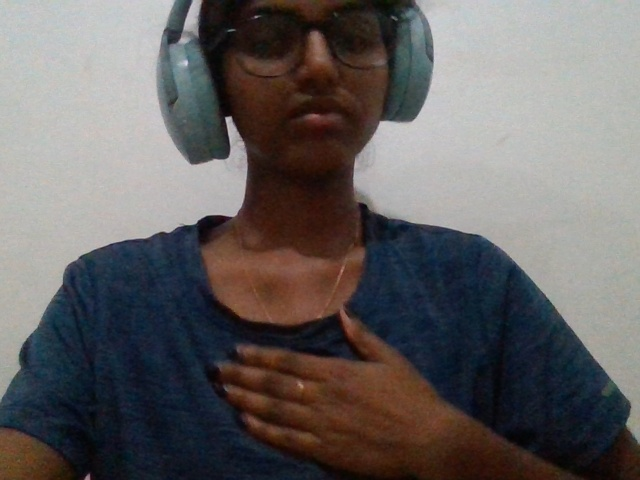Please: (151, 279, 520, 480)
